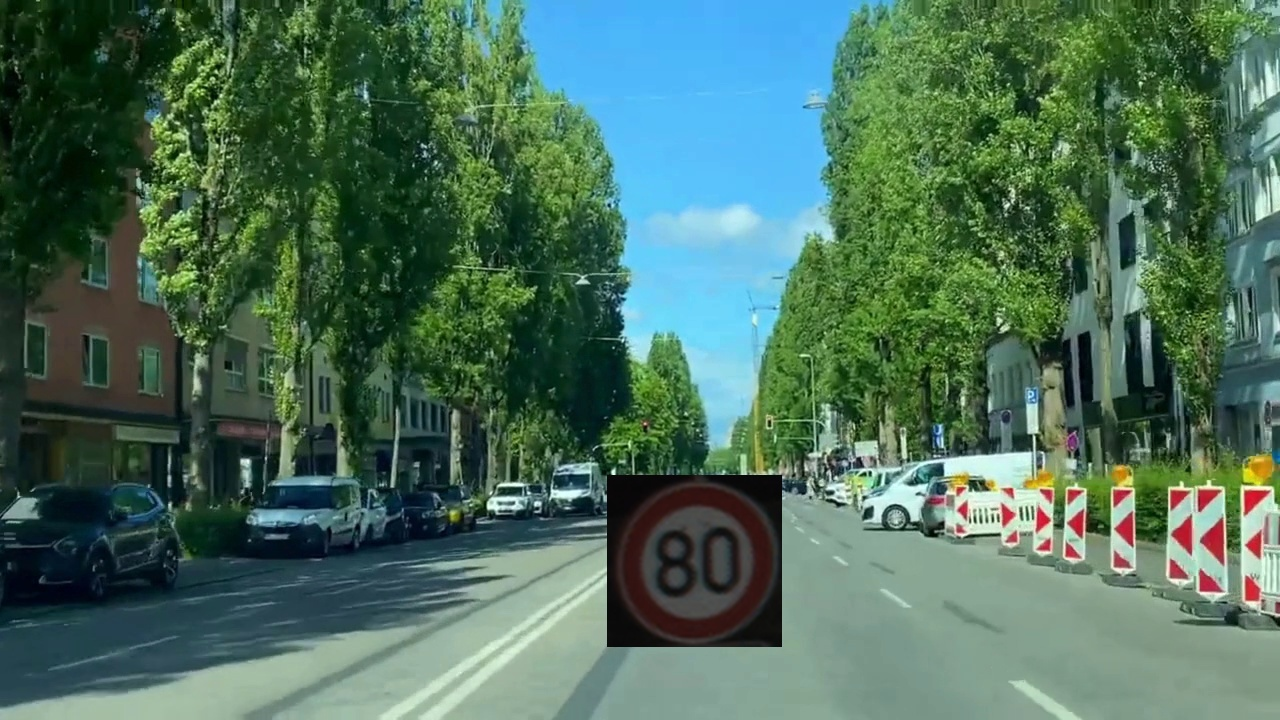Speed 80: (607, 475, 782, 647)
